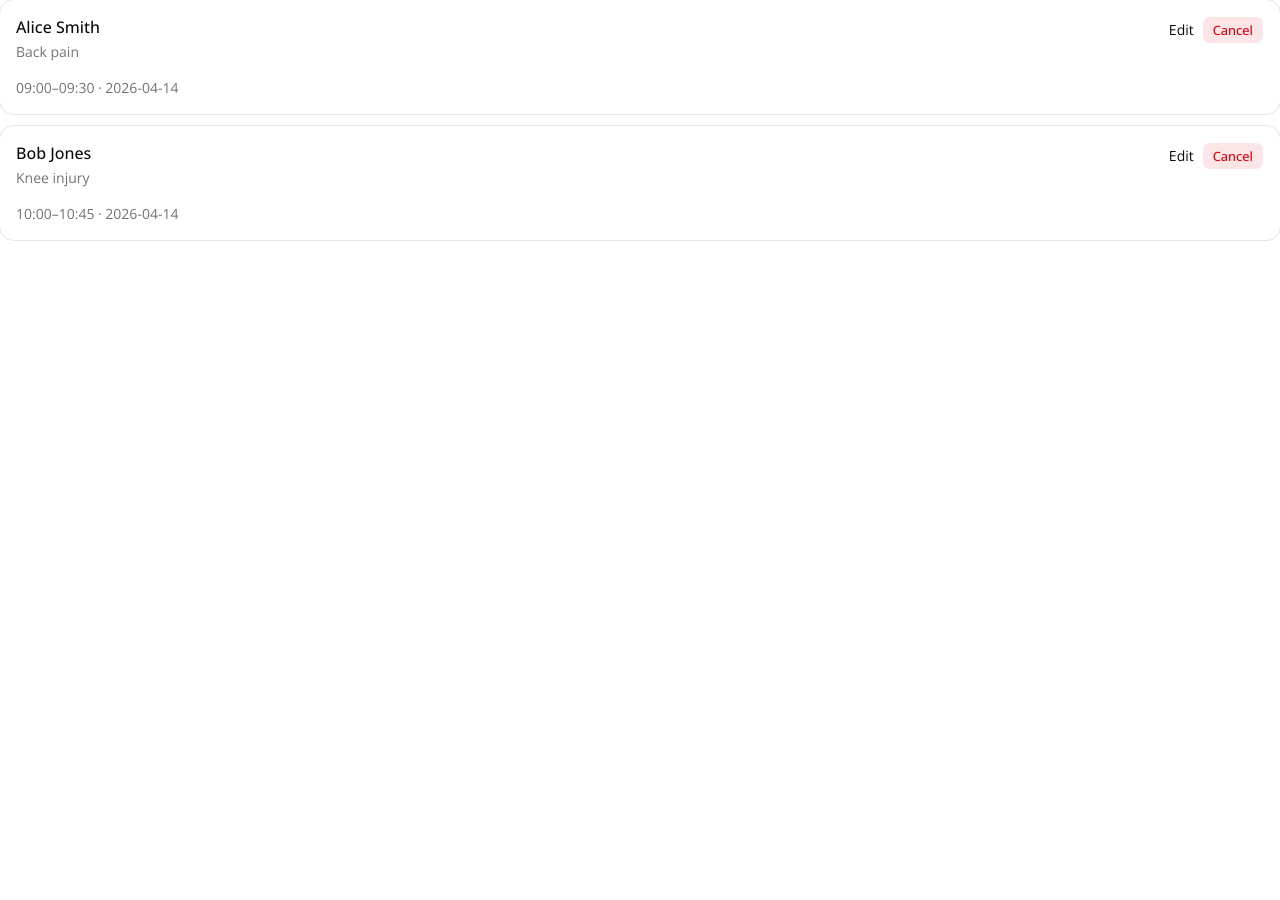
it: BookingList › cancel flow › after successful delete, removes the booking from the list
Click the button "Cancel" in the row of "Alice Smith" at (1233, 30), box [1202,16,1264,44]
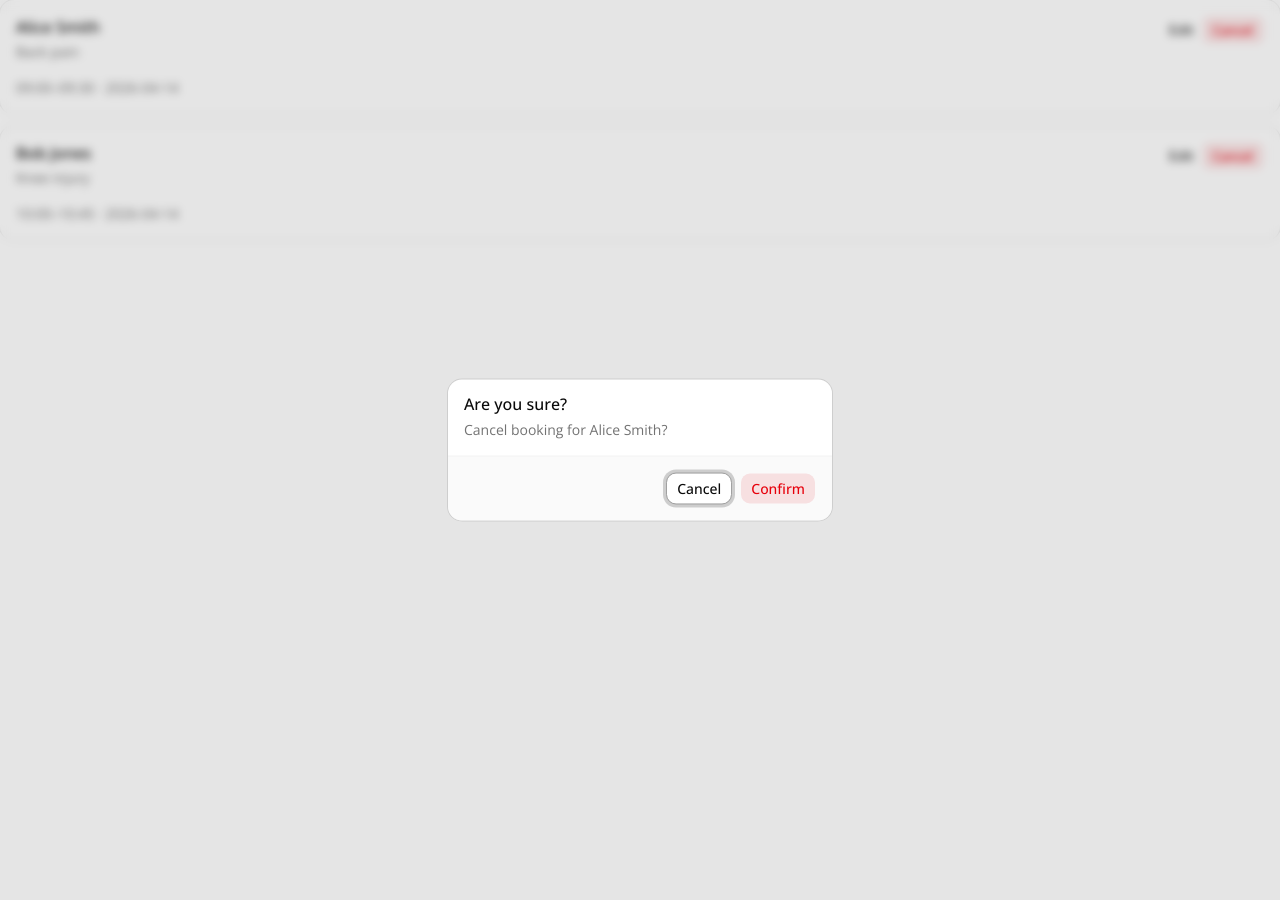
Click the button "Confirm" at (778, 488), box [740,472,816,504]
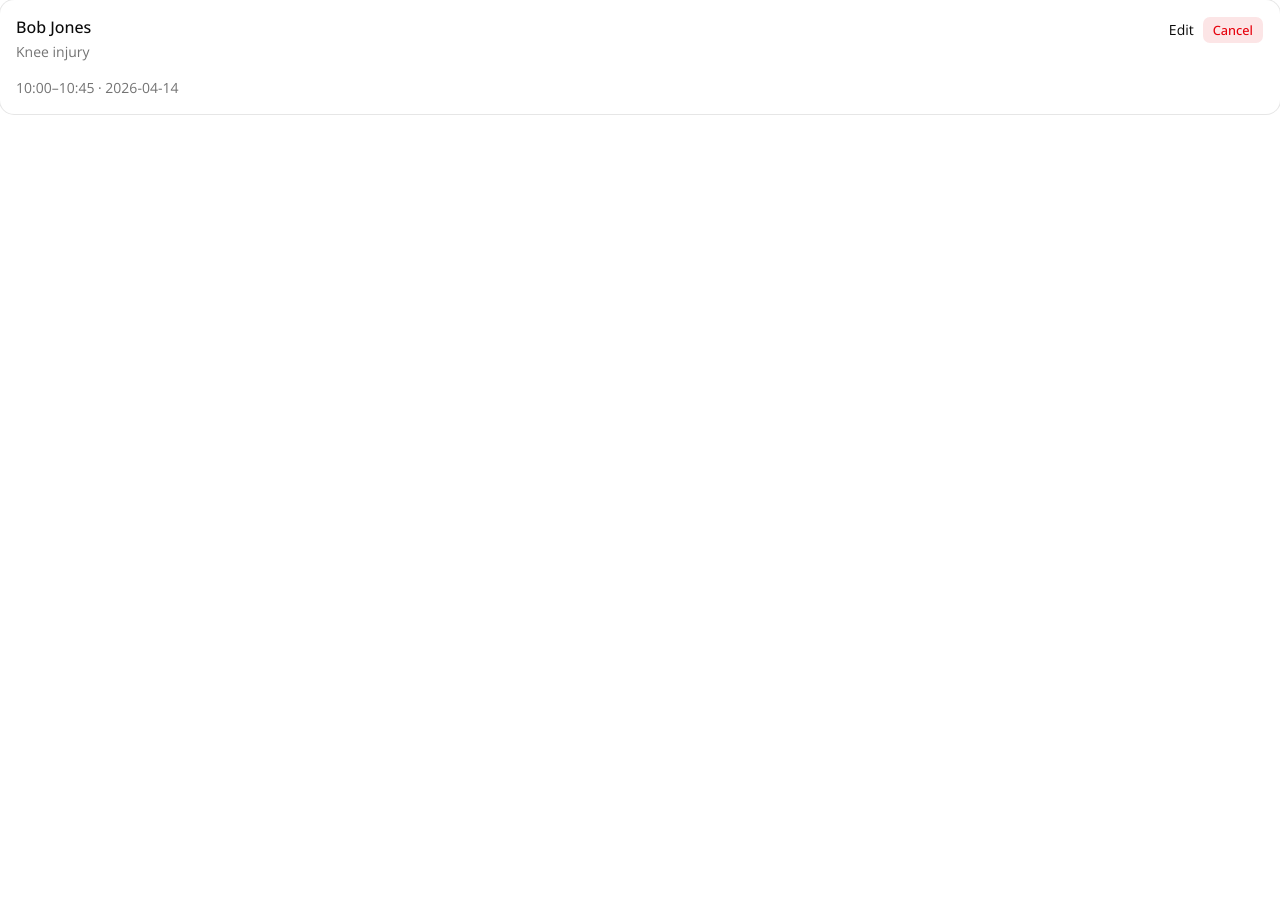
expect the text "Bob Jones" is shown: met, box [16,16,91,38]
expect the text "Alice Smith" is gone: met
